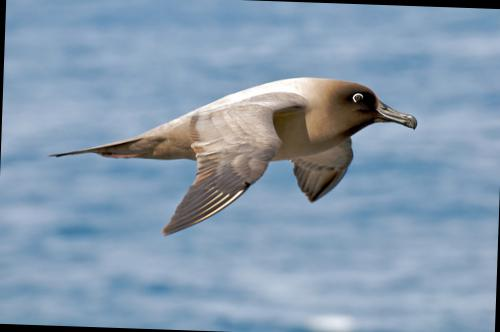bird: (30, 58, 442, 260)
